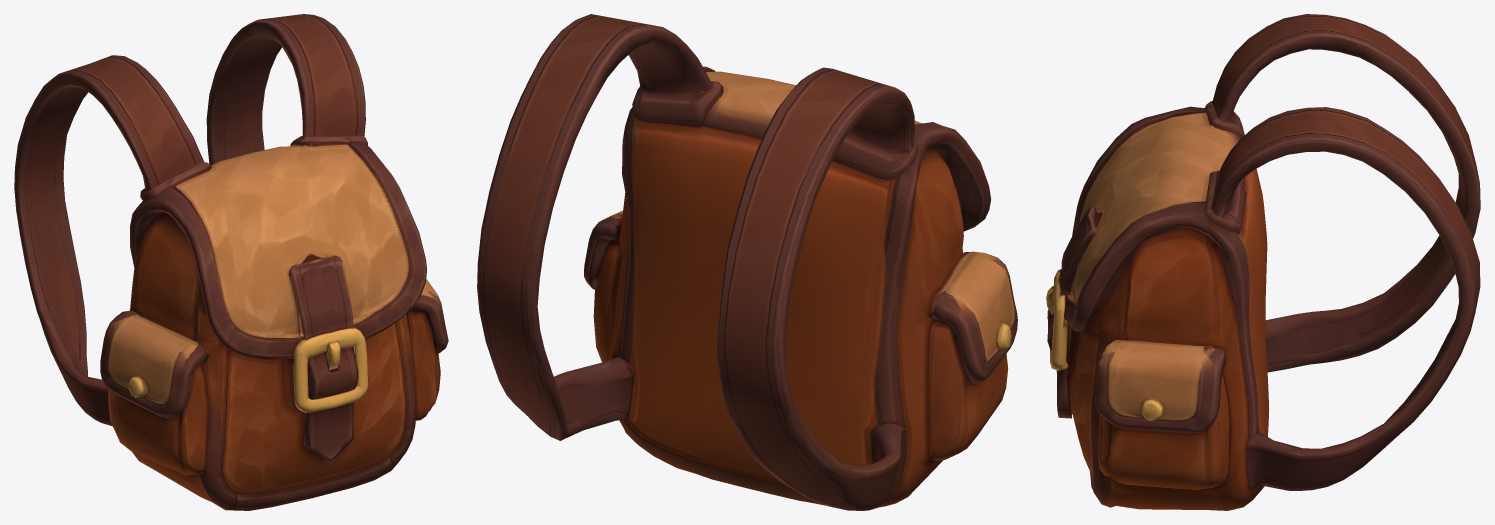
The model's file is rl-small-pack.glb.
3 renders of one model, left to right at view 1: azimuth 30°, elevation 25°; view 2: azimuth 150°, elevation 25°; view 3: azimuth 270°, elevation 25°, orthographic. The views are drawn at different scales.
Visible parts, largest first — view 1: Small Pack; view 2: Small Pack; view 3: Small Pack.
Boxes of the visible parts, x1,y1,x2,y2 form: Small Pack: (14, 14, 448, 510); Small Pack: (477, 14, 1017, 510); Small Pack: (1046, 14, 1480, 510).
Bounding box in the file's own units: 0.8354 × 0.9521 × 0.9326.
Materials: 1 (1 with a texture image).
